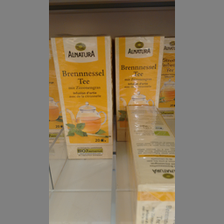tea: (51, 35, 115, 159), (124, 104, 175, 224), (115, 34, 165, 139)
